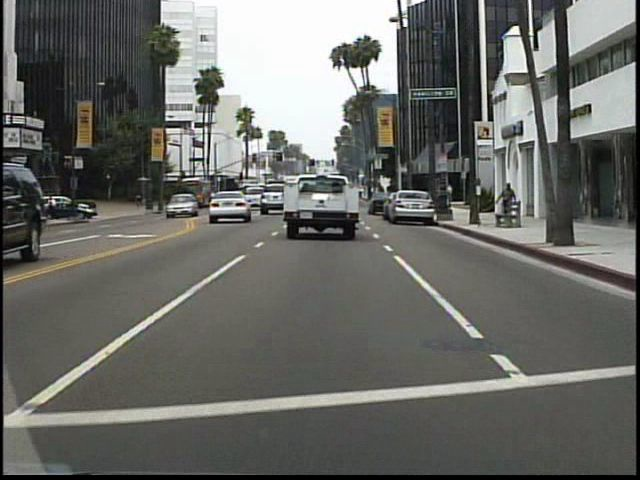person: (496, 181, 518, 223), (135, 189, 145, 214)
